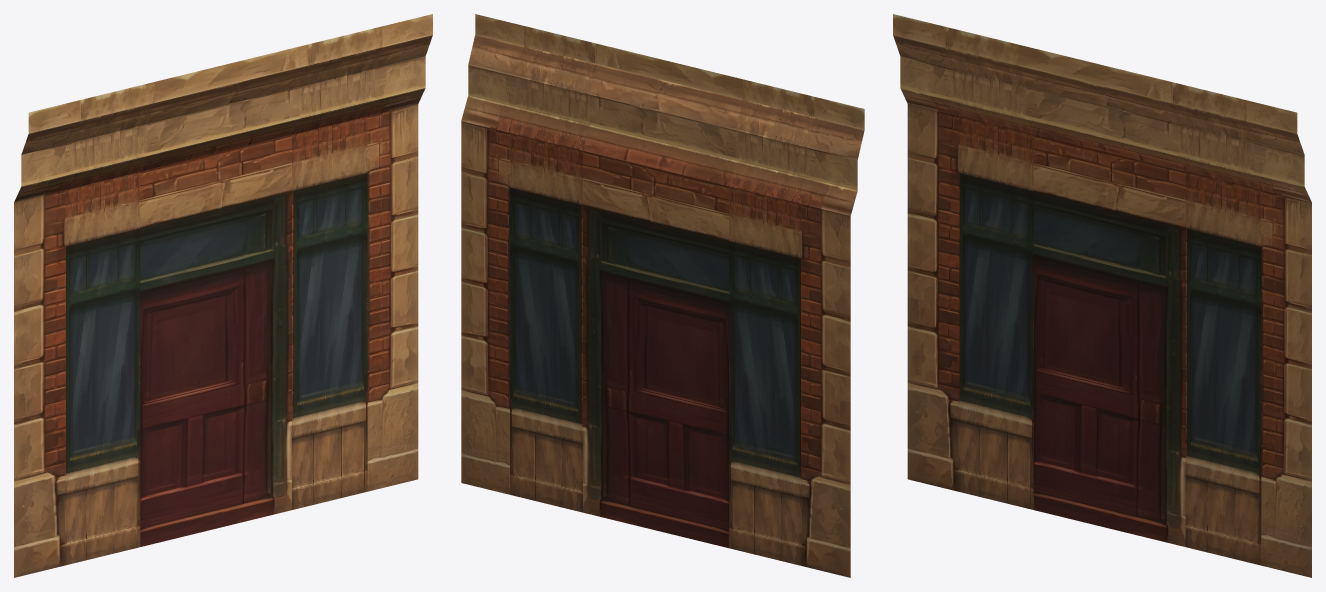
File: BRK_G_Bay4B.fbx
3 views of the same model, side by side, from view 1: azimuth 30°, elevation 25°; view 2: azimuth 150°, elevation 25°; view 3: azimuth 330°, elevation 25° (orthographic). The views are drawn at different scales.
Parts seen in each view (by area): view 1: BRK_G_Bay4B; view 2: BRK_G_Bay4B; view 3: BRK_G_Bay4B.
Part boxes in pixels (<box>): BRK_G_Bay4B: <box>14,14,432,577</box>; BRK_G_Bay4B: <box>461,14,864,577</box>; BRK_G_Bay4B: <box>893,14,1311,577</box>.
Bounding box in the file's own units: 4 × 0.25 × 4.5.
Materials: 1 (1 with a texture image).
